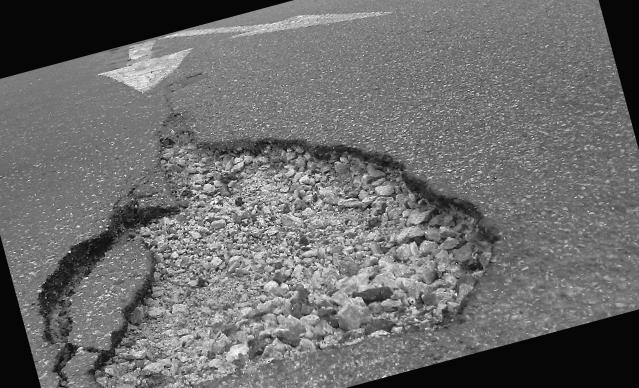Pothole: (0, 37, 537, 388)
